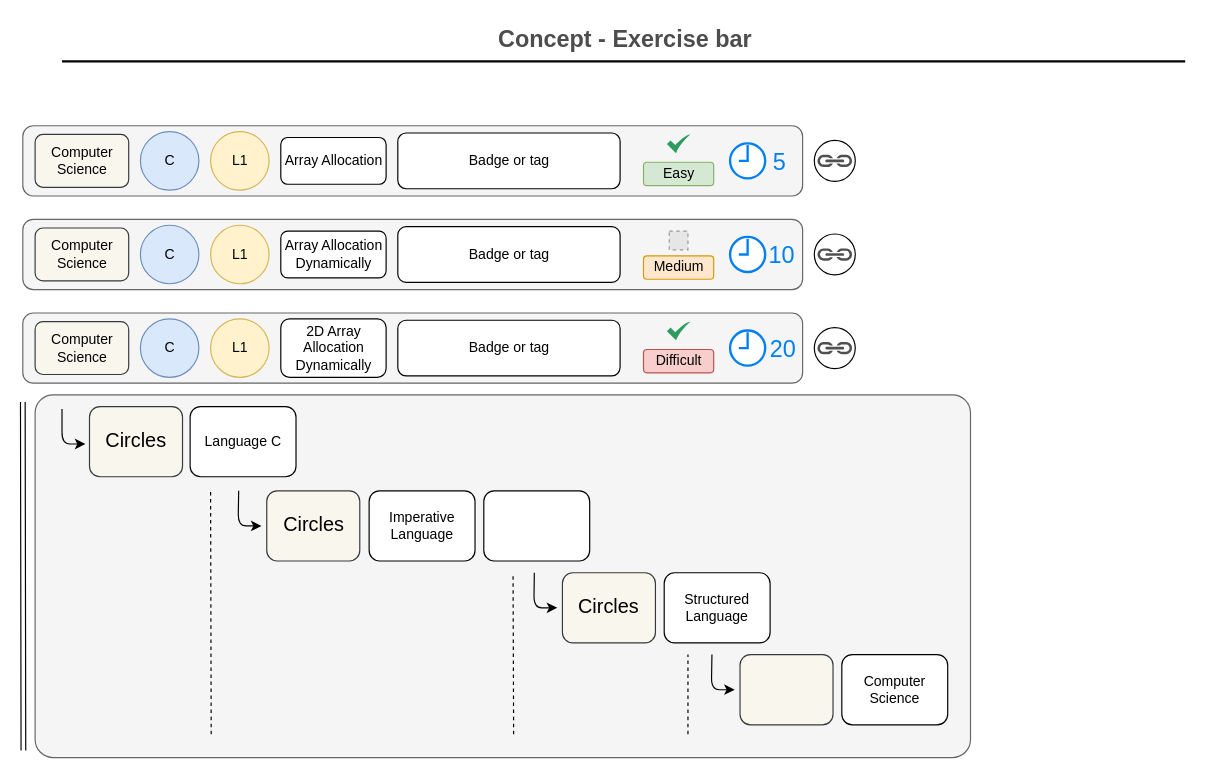
Some shapes in this 1206 by 778 pixel diagram are drawn without their labels. Grey dashed boxes stand in for pictures. The shapes that lost their labels are listed below. From the top down, each one's box as (x1, y1, x2, y2) in pixels, then its label:
(483, 490, 590, 561): Procedural Language
(739, 653, 833, 725): Circle
